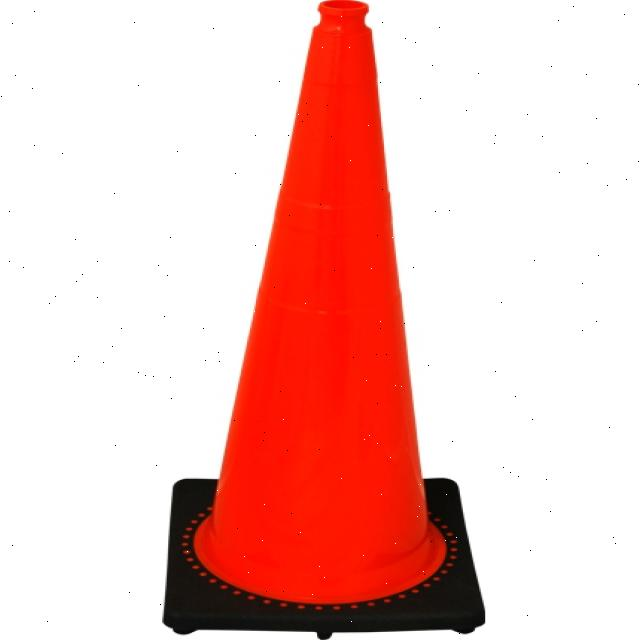traffic cone: (149, 1, 503, 640)
